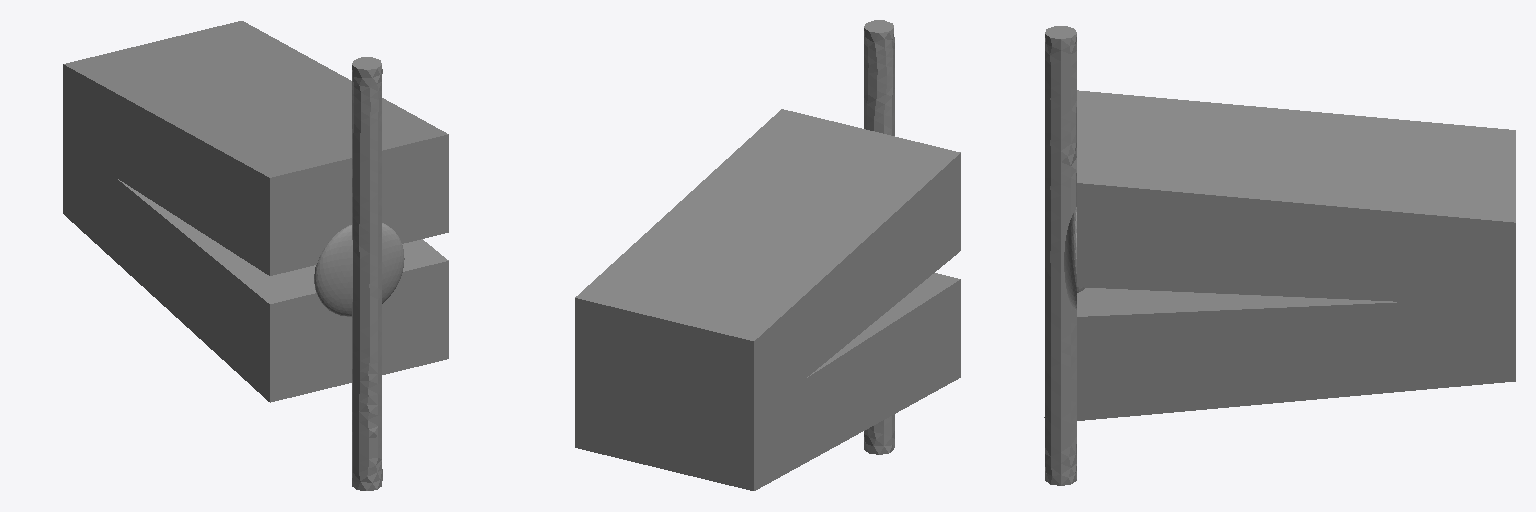
The robot description file, URDF, robot "grasp_v7x10_bt":
<?xml version="1.0" ?>
<!-- =================================================================================== -->
<!-- |    This document was autogenerated by xacro from [local-path]/dev/nyu_finger/workspace/src/catkin/robots/robot_properties/robot_properties_fingers/xacro/edu/fingeredu.urdf.xacro | -->
<!-- |    EDITING THIS FILE BY HAND IS NOT RECOMMENDED                                 | -->
<!-- =================================================================================== -->
<robot name="grasp_v7x10_bt" xmlns:xacro="https://ei.is.tuebingen.mpg.de/xacro">
  <material name="fingeredu_material">
    <color rgba="0.6 0.6 0.6 1.0"/>
  </material>
  <link name="base_link">
    <inertial>
      <origin rpy="0 0 0" xyz="0 0 0"/>
      <mass value="0"/>
      <inertia ixx="0." ixy="0." ixz="0." iyy="0." iyz="0." izz="0."/>
    </inertial>
  </link>
  <link name="col">
    <visual>
      <origin rpy="0 0 0" xyz="0 -0.06 0"/>
      <geometry>
        <mesh filename="package://example-robot-data/robots/guesss_description/meshes/cylinder_v0x10.obj" scale="1 1 1"/>
      </geometry>
      <material name="fingeredu_material"/>
    </visual>
    <collision>
      <origin rpy="0 0 0" xyz="0 -0.06 0"/>
      <geometry>
        <mesh filename="package://example-robot-data/robots/guesss_description/meshes/cylinder_v0x10.obj" scale="1 1 1"/>
      </geometry>
    </collision>
    <inertial>
      <origin rpy="0 0 0" xyz="0 -0.06 0"/>
      <mass value="2.46992614e1"/>
      <inertia ixx="7.12476394" ixy="0." ixz="0." iyy="7.12441251" iyz="0." izz="8.77925345e-02"/>
    </inertial>
  </link>
  <link name="gripper1">
    <visual>
      <origin rpy="-1.570796 0 0" xyz="0 0 0"/>
      <geometry>
        <mesh filename="package://example-robot-data/robots/guesss_description/meshes/finger_v0x40.obj" scale="1 1 1"/>
      </geometry>
      <material name="fingeredu_material"/>
    </visual>
    <collision>
      <origin rpy="-1.570796 0 0" xyz="0 0 0"/>
      <geometry>
        <mesh filename="package://example-robot-data/robots/guesss_description/meshes/finger_v0x40.obj" scale="1 1 1"/>
      </geometry>
    </collision>
    <inertial>
      <origin rpy="-1.570796 0 0" xyz="0 0 0"/>
      <mass value="6.26903772e2"/>
      <inertia ixx="5.94189810e2" ixy="0." ixz="0." iyy="6.00707252e2" iyz="-9.19601414e1" izz="9.88141168e1"/>
    </inertial>
  </link>
  <link name="gripper2">
    <visual>
      <origin rpy="-1.570796 0 0" xyz="0 0 0"/>
      <geometry>
        <mesh filename="package://example-robot-data/robots/guesss_description/meshes/finger_v0x40_p.obj" scale="1 1 1"/>
      </geometry>
      <material name="fingeredu_material"/>
    </visual>
    <collision>
      <origin rpy="-1.570796 0 0" xyz="0 0 0"/>
      <geometry>
        <mesh filename="package://example-robot-data/robots/guesss_description/meshes/finger_v0x40_p.obj" scale="1 1 1"/>
      </geometry>
    </collision>
    <inertial>
      <origin rpy="-1.570796 0 0" xyz="0 0 0"/>
      <mass value="6.26903772e2"/>
      <inertia ixx="5.94189810e2" ixy="0." ixz="0." iyy="6.00707252e2" iyz="9.19601414e1" izz="9.88141168e1"/>
    </inertial>
  </link>
  <link name="temp_y">
    <inertial>
      <origin rpy="0 0 0" xyz="0 0 0"/>
      <mass value="6.47e-10"/>
      <inertia ixx="0." ixy="0." ixz="0." iyy="0." iyz="0." izz="0."/>
    </inertial>
  </link>
  <link name="temp_z">
    <inertial>
      <origin rpy="0 0 0" xyz="0 0 0"/>
      <mass value="6.47e-10"/>
      <inertia ixx="0." ixy="0." ixz="0." iyy="0." iyz="0." izz="0."/>
    </inertial>
  </link>
  <link name="coin">
    <visual>
      <origin rpy="0 0 0" xyz="0 0 0"/>
      <geometry>
        <mesh filename="package://example-robot-data/robots/guesss_description/meshes/ellipseV4x10.obj" scale="1 1 1"/>
      </geometry>
      <material name="fingeredu_material"/>
    </visual>
    <collision>
      <origin rpy="0 0 0" xyz="0 0 0"/>
      <geometry>
        <mesh filename="package://example-robot-data/robots/guesss_description/meshes/ellipseV4x10.obj" scale="1 1 1"/>
      </geometry>
    </collision>
    <inertial>
      <origin rpy="0 0 0" xyz="0 0 0"/>
      <mass value="1.07760802e1"/>
      <inertia ixx="1.30175886e-1" ixy="0." ixz="0." iyy="2.35957441e-1" iyz="0." izz="1.30167427e-1"/>
    </inertial>
  </link>
  <joint name="col_joint" type="prismatic">
    <parent link="base_link"/>
    <child link="col"/>
    <limit effort="1000" lower="-30.14159265359" upper="30.14159265359" velocity="1000"/>
    <axis xyz="0 1 0"/>
    <origin rpy="0 0 0" xyz="0 0 0"/>
  </joint>
  <joint name="finger_joint1" type="prismatic">
    <parent link="col"/>
    <child link="gripper1"/>
    <limit effort="1000" lower="-30.14159265359" upper="30.14159265359" velocity="1000"/>
    <axis xyz="0 0 1"/>
    <origin rpy="0 0 0" xyz="0 0 0"/>
  </joint>
  <joint name="finger_joint2" type="prismatic">
    <parent link="col"/>
    <child link="gripper2"/>
    <limit effort="1000" lower="-30.14159265359" upper="30.14159265359" velocity="1000"/>
    <axis xyz="0 0 1"/>
    <origin rpy="0 0 0" xyz="0 0 0"/>
  </joint>
  <joint name="coin_joint_y" type="prismatic">
    <parent link="base_link"/>
    <child link="temp_y"/>
    <limit effort="1000" lower="-30.14159265359" upper="30.14159265359" velocity="1000"/>
    <axis xyz="0 1 0"/>
    <origin rpy="0 0 0" xyz="0 0 0"/>
  </joint>
  <joint name="coin_joint_z" type="prismatic">
    <parent link="temp_y"/>
    <child link="temp_z"/>
    <limit effort="1000" lower="-30.14159265359" upper="30.14159265359" velocity="1000"/>
    <axis xyz="0 0 1"/>
    <origin rpy="0 0 0" xyz="0 0 0"/>
  </joint>
  <joint name="coin_joint_x" type="revolute">
    <parent link="temp_z"/>
    <child link="coin"/>
    <limit effort="10000" lower="-3.14159265359" upper="3.14159265359" velocity="10000"/>
    <axis xyz="1 0 0"/>
    <origin rpy="0 0 0" xyz="0 0 0"/>
  </joint>
</robot>

--- Render facts (derived) ---
3 views of the same robot in one strip: view 1: azimuth 30°, elevation 25°; view 2: azimuth 150°, elevation 25°; view 3: azimuth 270°, elevation 25° (orthographic).
Robot: grasp_v7x10_bt — 7 links, 6 joints (1 revolute, 5 prismatic); root link base_link; default pose: all joints at 0.
Links seen in each view (by area): view 1: gripper2, gripper1, col, coin; view 2: gripper2, gripper1, col; view 3: gripper2, gripper1, col, coin.
Link boxes in pixels (x1,y1,x2,y2): gripper2: (63,21,448,275); gripper1: (63,139,448,402); col: (352,57,382,490); coin: (314,223,404,316); gripper2: (575,109,960,415); gripper1: (575,273,960,490); col: (864,20,894,454); gripper2: (1077,90,1515,301); gripper1: (1077,288,1515,420); col: (1044,26,1076,485); coin: (1064,207,1084,309).
Bounding box of the posed robot: 0.8 × 1.72 × 1.8 m (x, y, z).
4 mesh visuals loaded from 4 distinct referenced files (4 OBJ).
